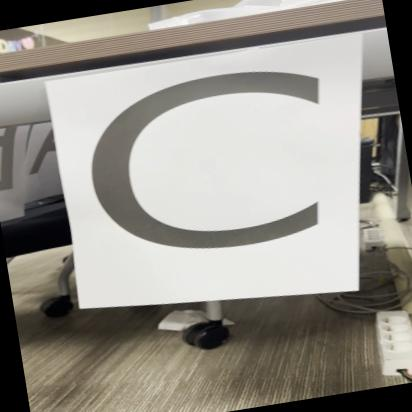seat: (46, 33, 369, 331)
